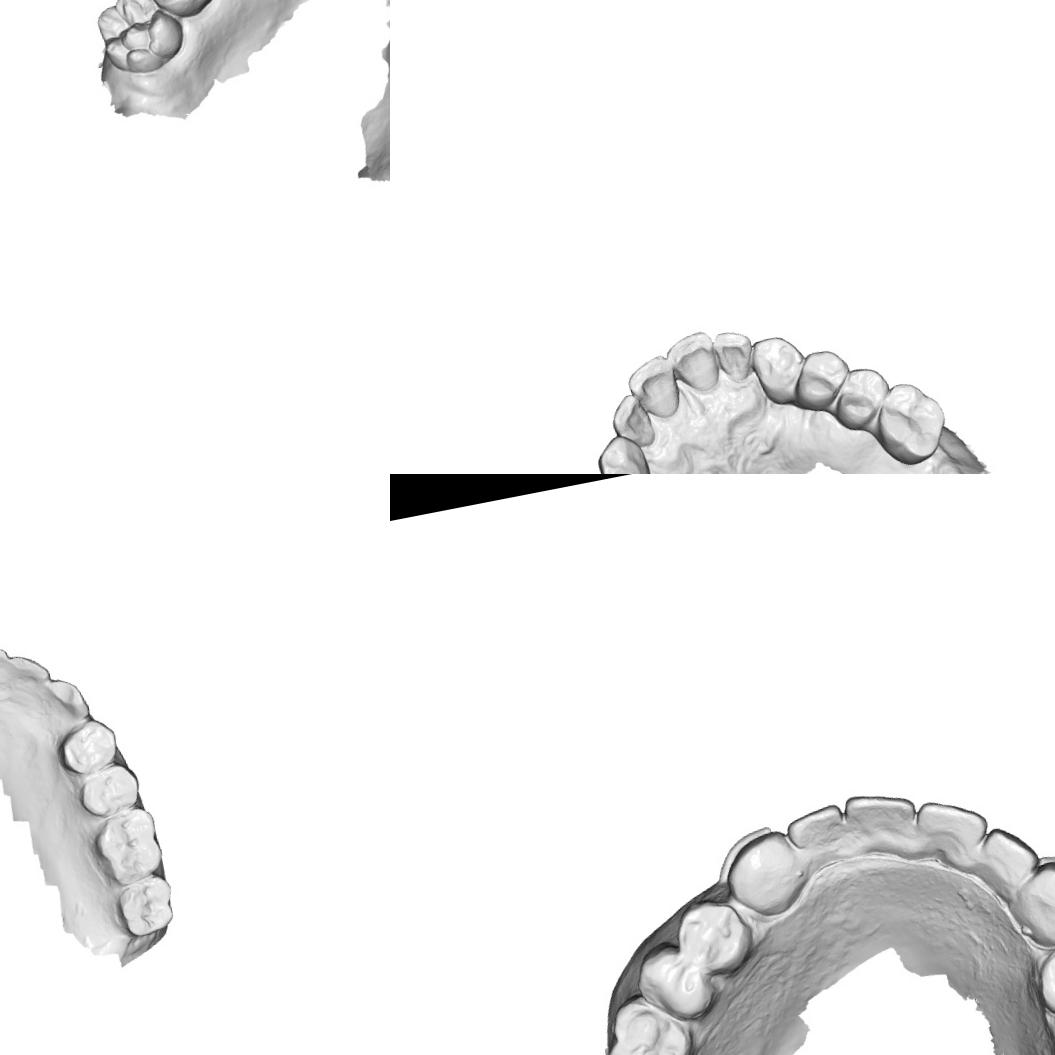canine: (714, 824, 810, 928), (744, 330, 812, 410), (1005, 854, 1055, 954), (37, 672, 91, 728), (590, 429, 654, 474)
incisor: (840, 783, 924, 858), (915, 791, 993, 867), (782, 800, 854, 868), (972, 820, 1042, 888), (622, 351, 683, 424), (662, 327, 722, 399), (606, 389, 658, 452), (4, 646, 53, 706), (709, 325, 757, 386)
molar: (869, 374, 954, 472), (89, 0, 190, 82), (597, 986, 703, 1055), (86, 802, 166, 889), (109, 870, 180, 942), (132, 0, 224, 26)
premolar: (627, 936, 715, 1032), (670, 894, 760, 984), (825, 362, 897, 435), (49, 713, 122, 780), (787, 344, 856, 414), (72, 758, 142, 820), (1035, 933, 1055, 1019)
